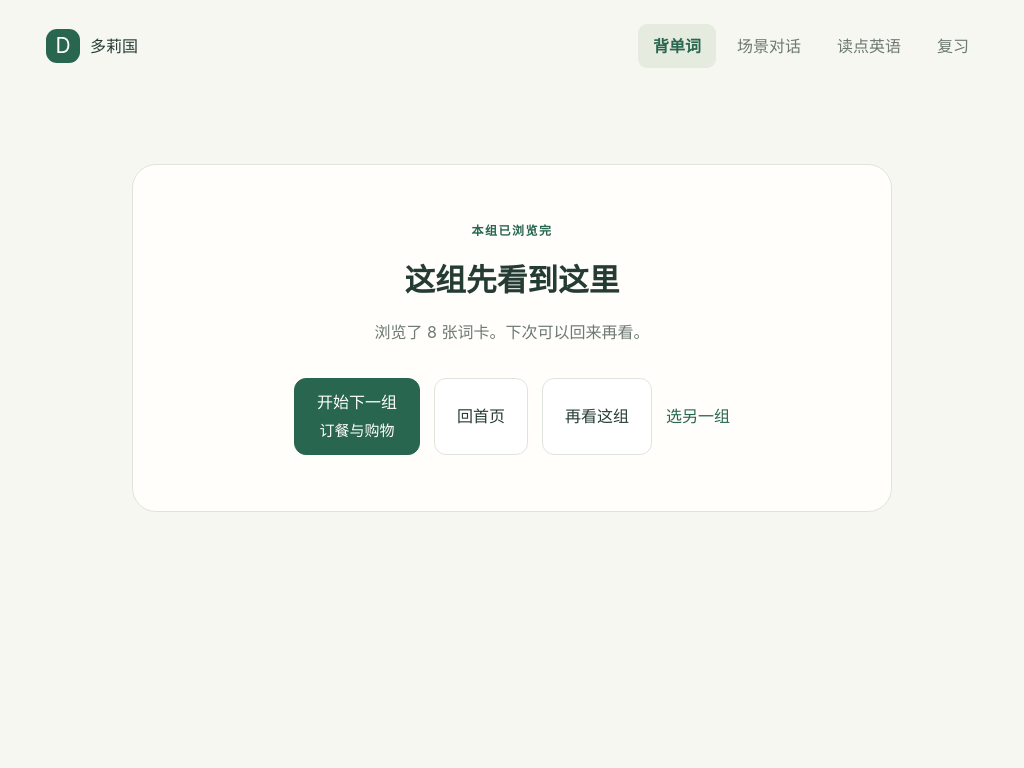
Test: App next-group and topic-link wiring › starts the next unfinished group from a completed group page
The image size is (1024, 768).
Check: the element with class "doli-completion" is shown, box [132, 164, 892, 512]
Click the button "开始下一组 订餐与购物" at x=357, y=416, box [294, 378, 420, 455]
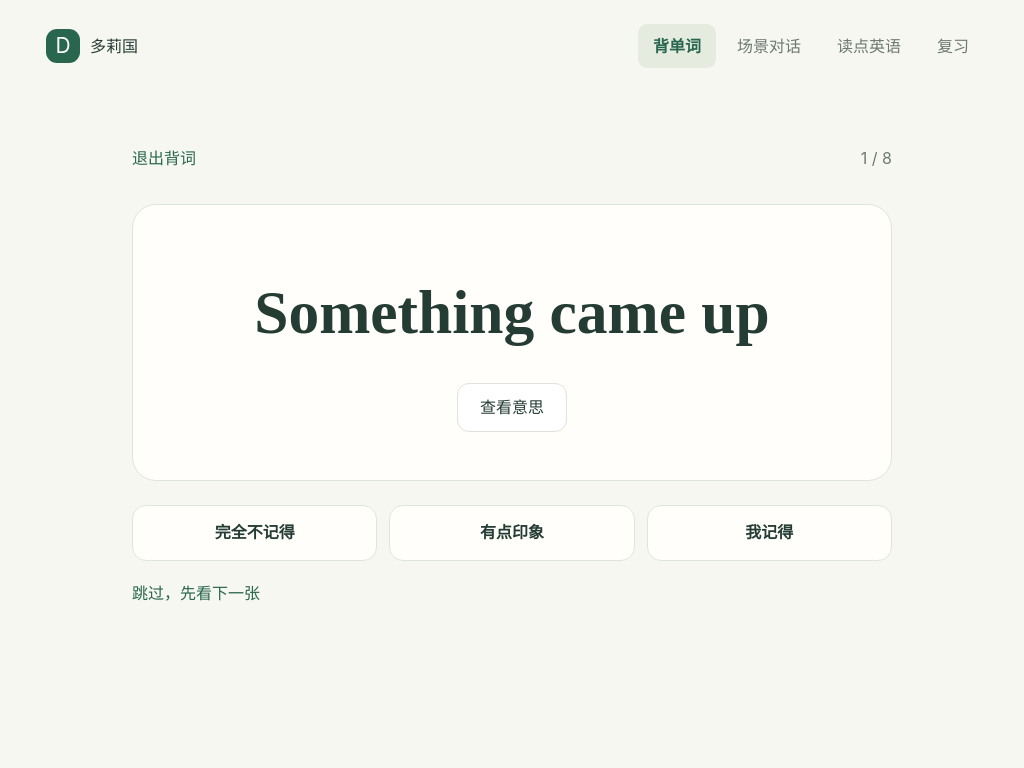
Check: the element with class "doli-word-panel" is shown, box [132, 204, 892, 481]
